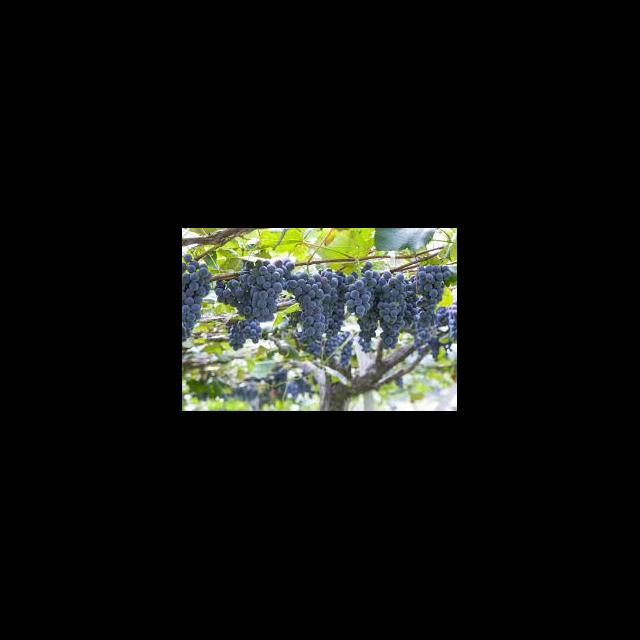grape: (182, 254, 212, 342)
